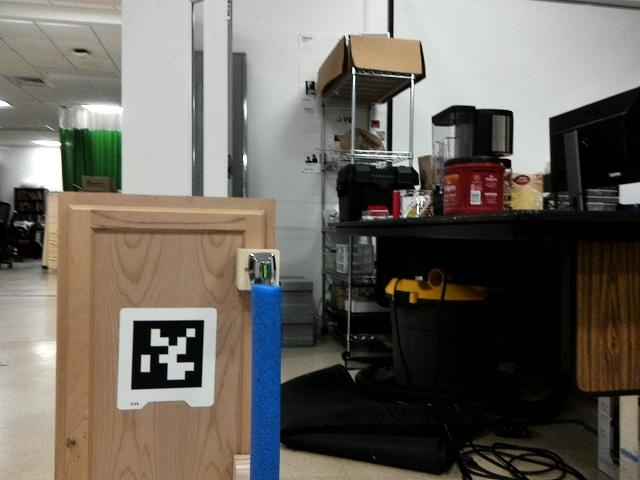noodle_handle: (243, 263, 286, 480)
